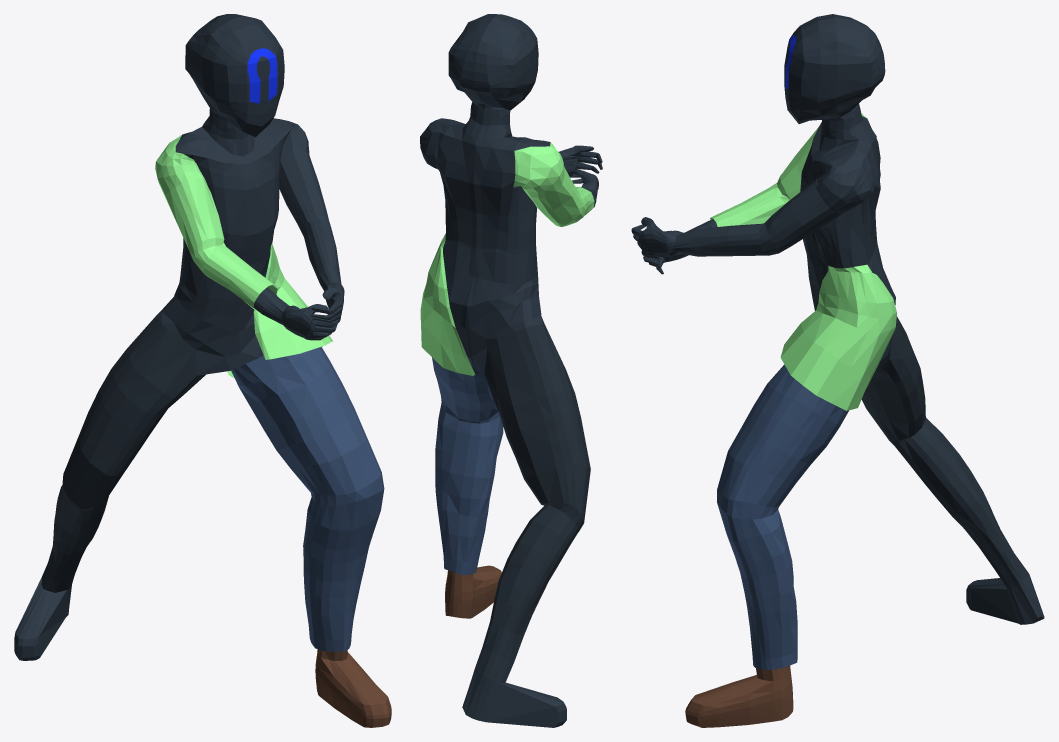
Rendered from Mar_WR_000012.obj.
3 views of the same model, side by side, from view 1: azimuth 30°, elevation 25°; view 2: azimuth 150°, elevation 25°; view 3: azimuth 270°, elevation 25° (orthographic). The views are drawn at different scales.
Visible parts, largest first — view 1: Cube.000_Cube.001; view 2: Cube.000_Cube.001; view 3: Cube.000_Cube.001.
Boxes of the visible parts, <box> form: Cube.000_Cube.001: <box>14,14,391,727</box>; Cube.000_Cube.001: <box>420,14,602,727</box>; Cube.000_Cube.001: <box>631,14,1044,727</box>.
Bounding box in the file's own units: 1.41 × 3.72 × 2.08.
